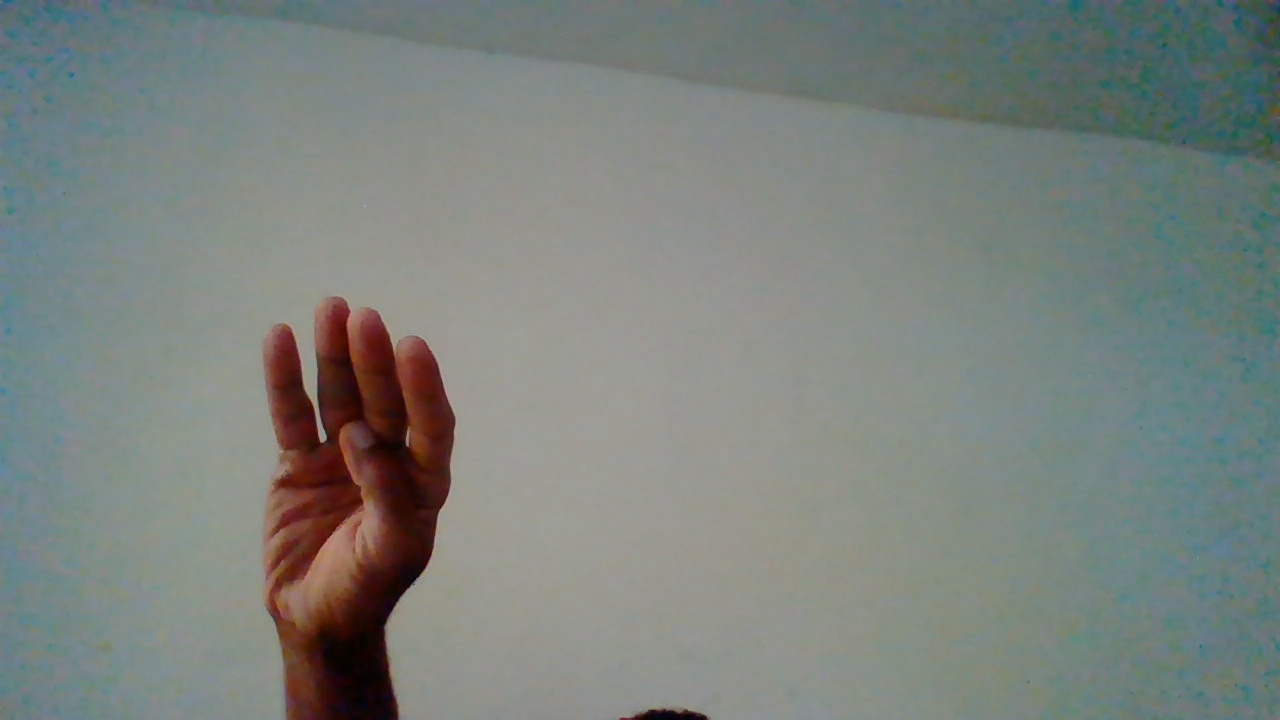me: (255, 300, 458, 720)
